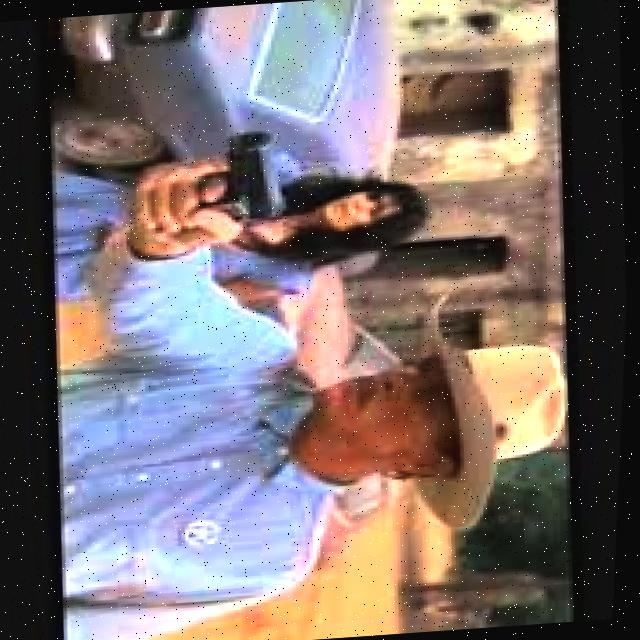pistol: (191, 127, 292, 226)
